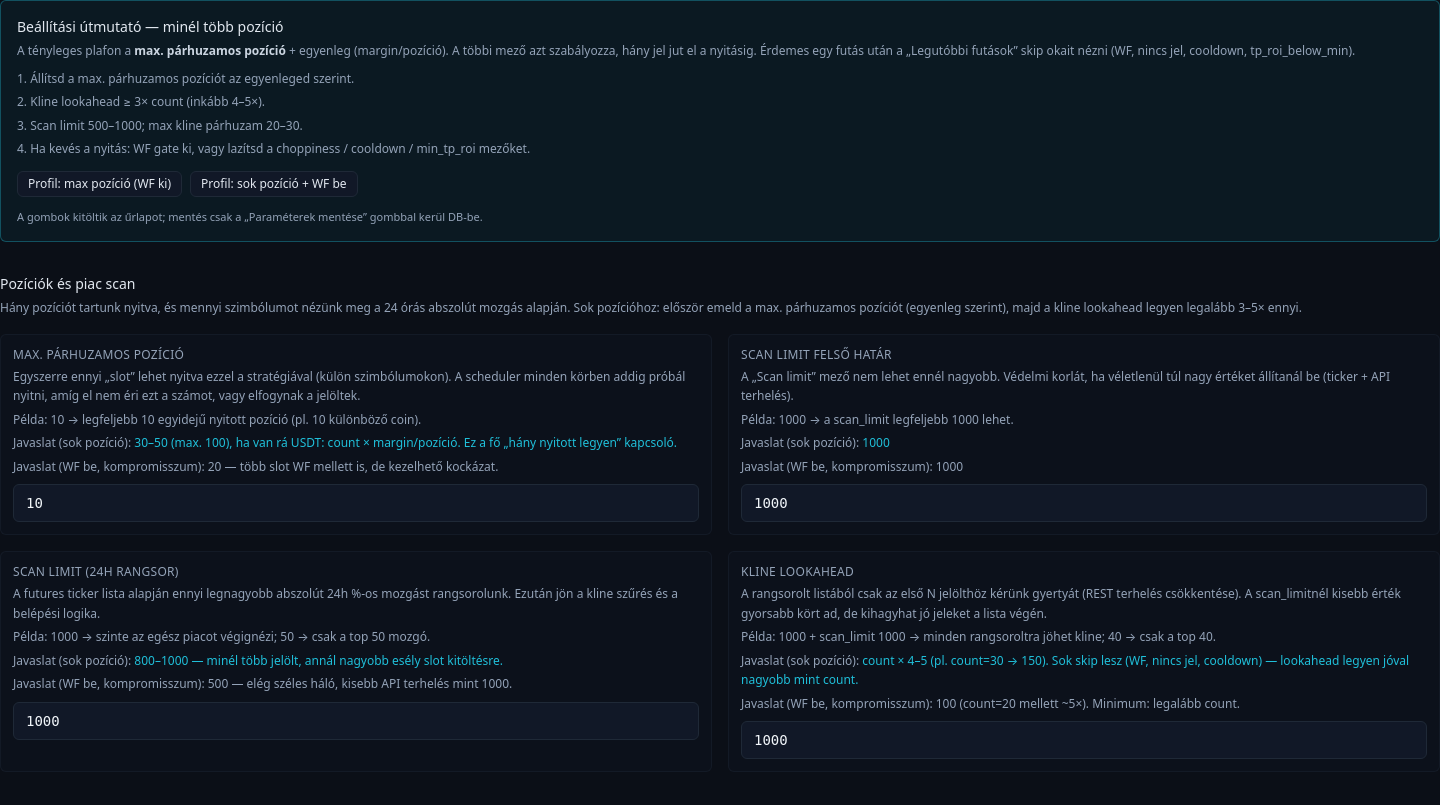
it: <TopSignalEntriesConfigEditor /> › shows tuning guide and applies many-positions preset
Check: the heading "Beállítási útmutató — minél több pozíció" is shown, box 17,17 -> 284,36
Check: the 1st text "Javaslat (sok pozíció):" is shown, box 13,434 -> 134,451
Click the button "Profil: max pozíció (WF ki)" at {"x": 100, "y": 184}, box 17,170 -> 182,196
(page scrolled)
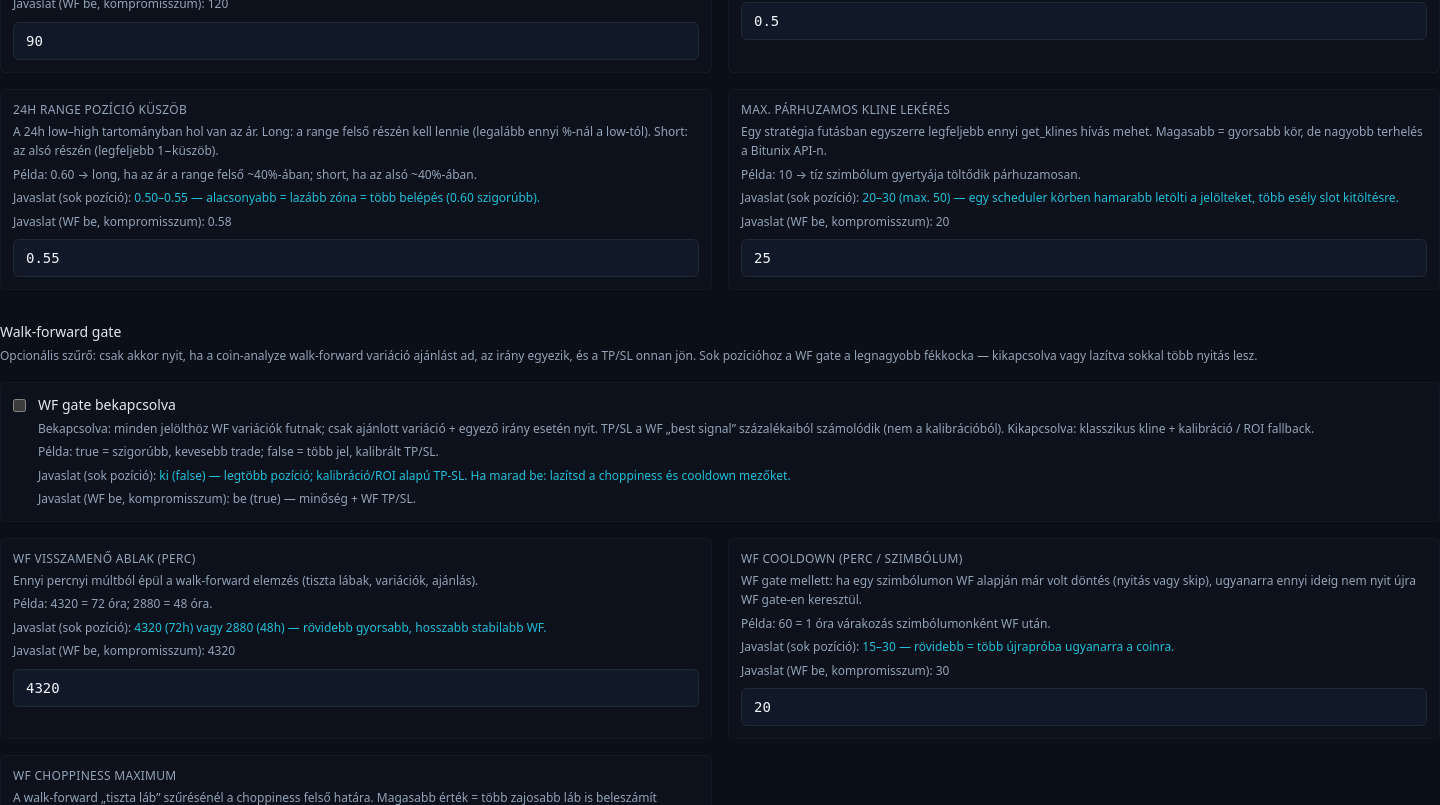
Check: the checkbox labelled "WF gate bekapcsolva" is not checked, box 13,398 -> 26,412
